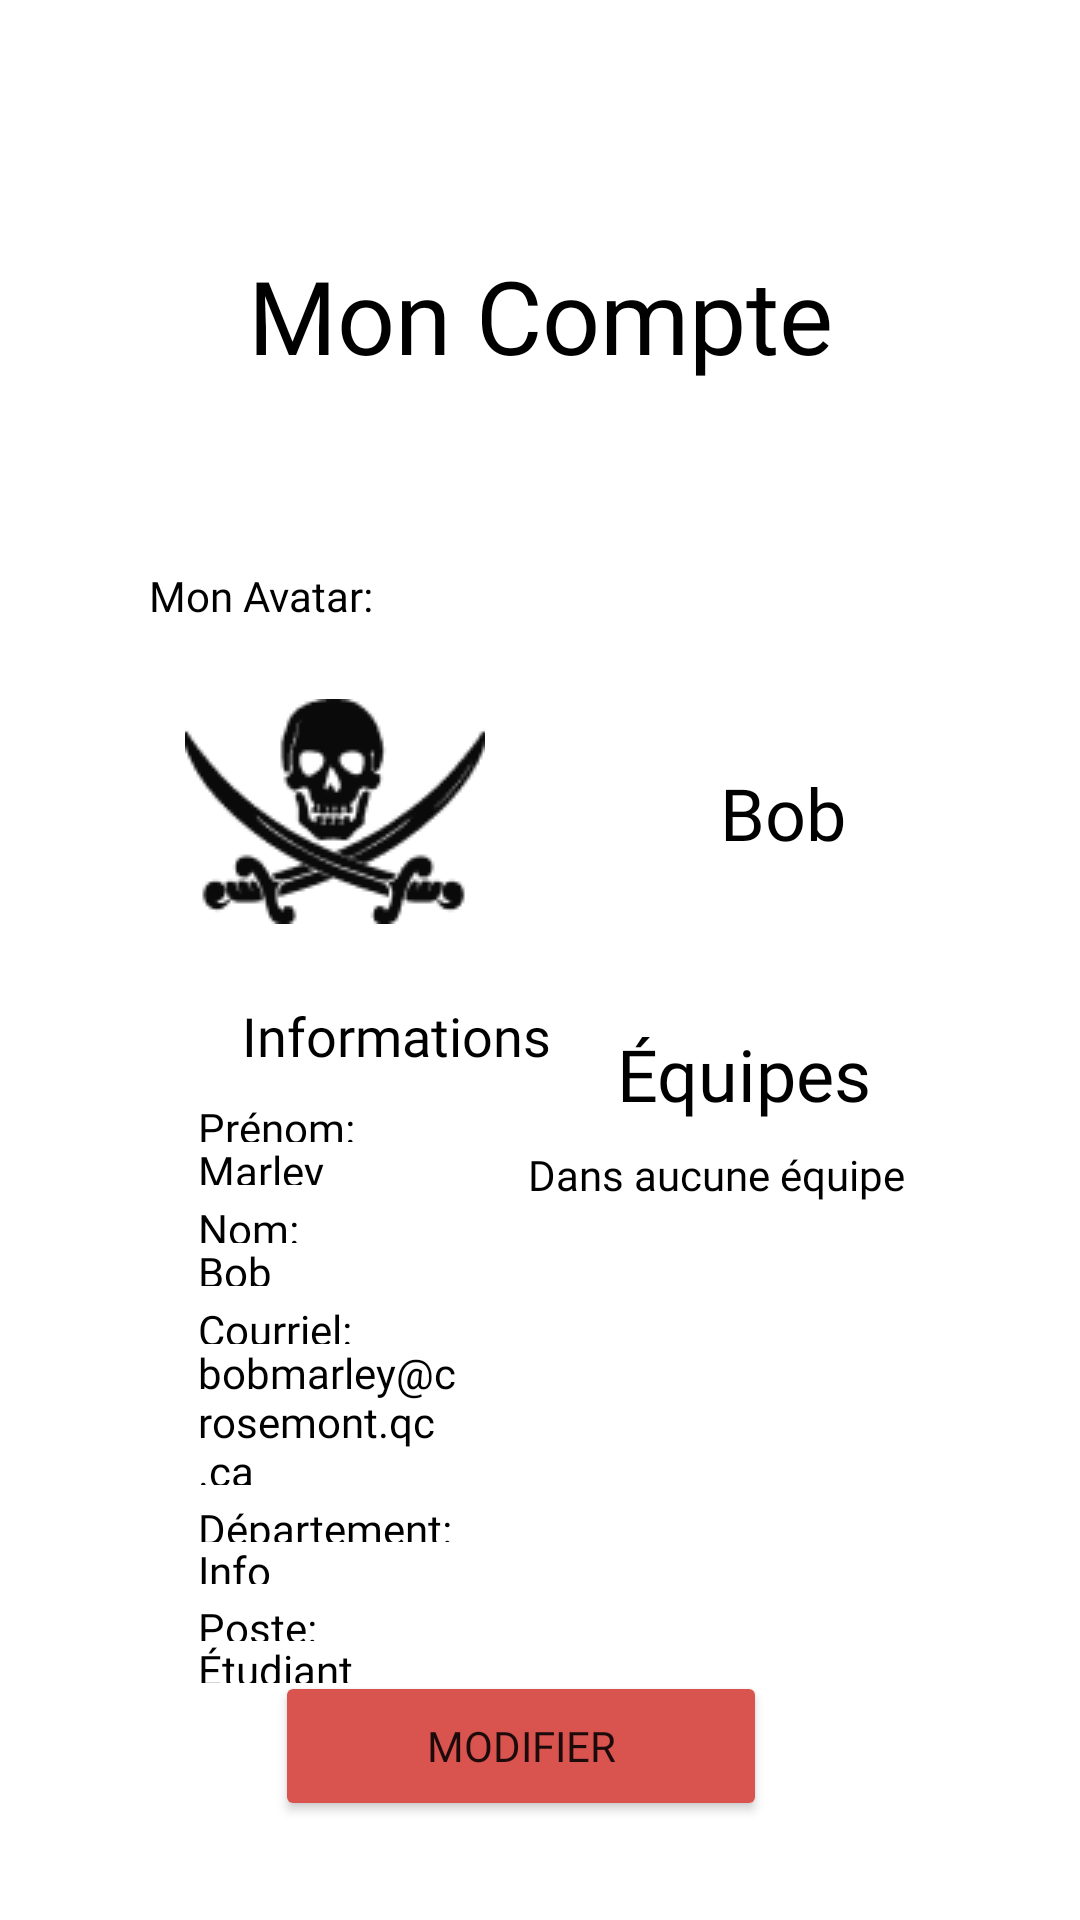

Icons on this 1080*1920 Android screen, each with its box as (x1, y1, x2, y2):
tete de mort: (185, 699, 485, 924)
